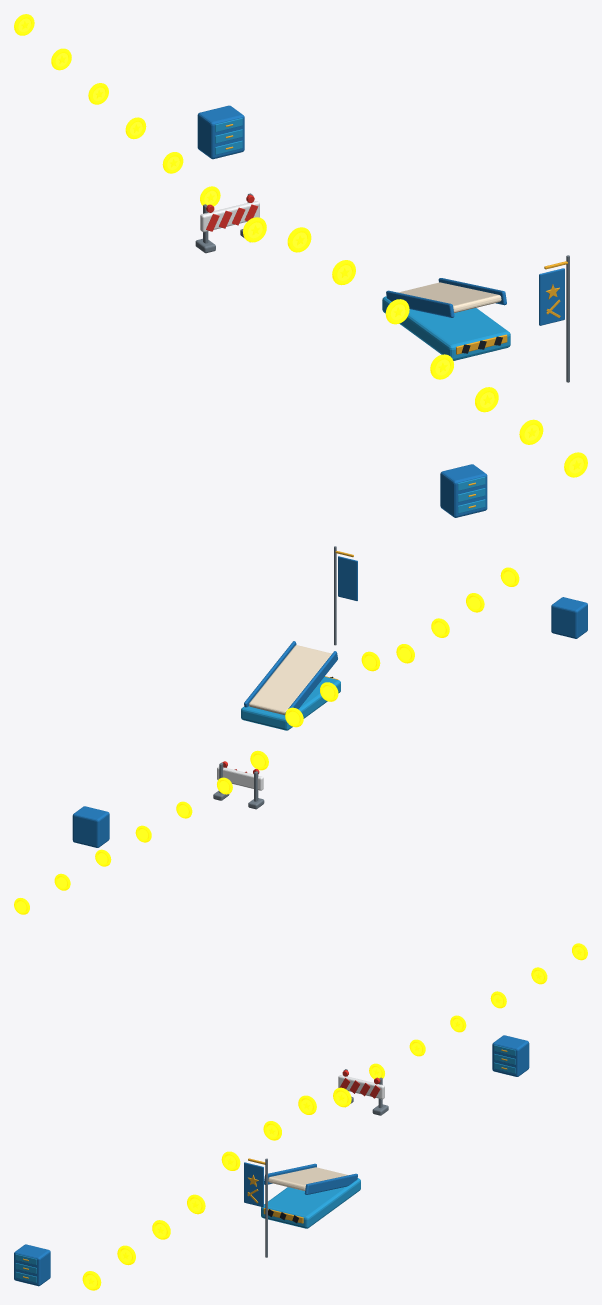
The model's file is Premium_02_Gameplay_Props.fbx.
The picture shows the model from 3 angles, top to bottom: view 1: azimuth 30°, elevation 25°; view 2: azimuth 150°, elevation 25°; view 3: azimuth 330°, elevation 25°; orthographic projection. The views are drawn at different scales.
Visible parts, largest first — view 1: Premium_Obstacle_Ramp_Base, Premium_Cabinet_Right_Body, Premium_Cabinet_Left_Body, Premium_Obstacle_Ramp_Deck, Banner_Cloth, Premium_Obstacle_Ramp_Rail, Barricade_Board; view 2: Premium_Obstacle_Ramp_Deck, Premium_Cabinet_Right_Body, Premium_Cabinet_Left_Body, Premium_Obstacle_Ramp_Base, Banner_Cloth, Premium_Obstacle_Ramp_Rail, Barricade_Board; view 3: Premium_Obstacle_Ramp_Base, Premium_Cabinet_Right_Body, Premium_Cabinet_Left_Body, Premium_Obstacle_Ramp_Deck, Banner_Cloth, Premium_Obstacle_Ramp_Rail.001.
Boxes of the visible parts, x1,y1,x2,y2 form: Premium_Obstacle_Ramp_Base: (382,296,510,360); Premium_Cabinet_Right_Body: (197,105,244,159); Premium_Cabinet_Left_Body: (440,464,487,517); Premium_Obstacle_Ramp_Deck: (398,282,501,312); Banner_Cloth: (539,268,564,325); Premium_Obstacle_Ramp_Rail: (386,290,454,317); Barricade_Board: (200,201,259,232); Premium_Obstacle_Ramp_Deck: (249,645,331,715); Premium_Cabinet_Right_Body: (72,806,109,847); Premium_Cabinet_Left_Body: (551,597,587,638); Premium_Obstacle_Ramp_Base: (241,676,340,730); Banner_Cloth: (338,556,357,600); Premium_Obstacle_Ramp_Rail: (285,651,337,714); Barricade_Board: (217,766,263,790); Premium_Obstacle_Ramp_Base: (261,1178,360,1228); Premium_Cabinet_Right_Body: (492,1035,529,1076); Premium_Cabinet_Left_Body: (14,1244,50,1286); Premium_Obstacle_Ramp_Deck: (268,1167,348,1190); Banner_Cloth: (244,1162,263,1207); Premium_Obstacle_Ramp_Rail.001: (304,1173,357,1194).
Bounding box in the file's own units: 14.3 × 8.2 × 66.27.
